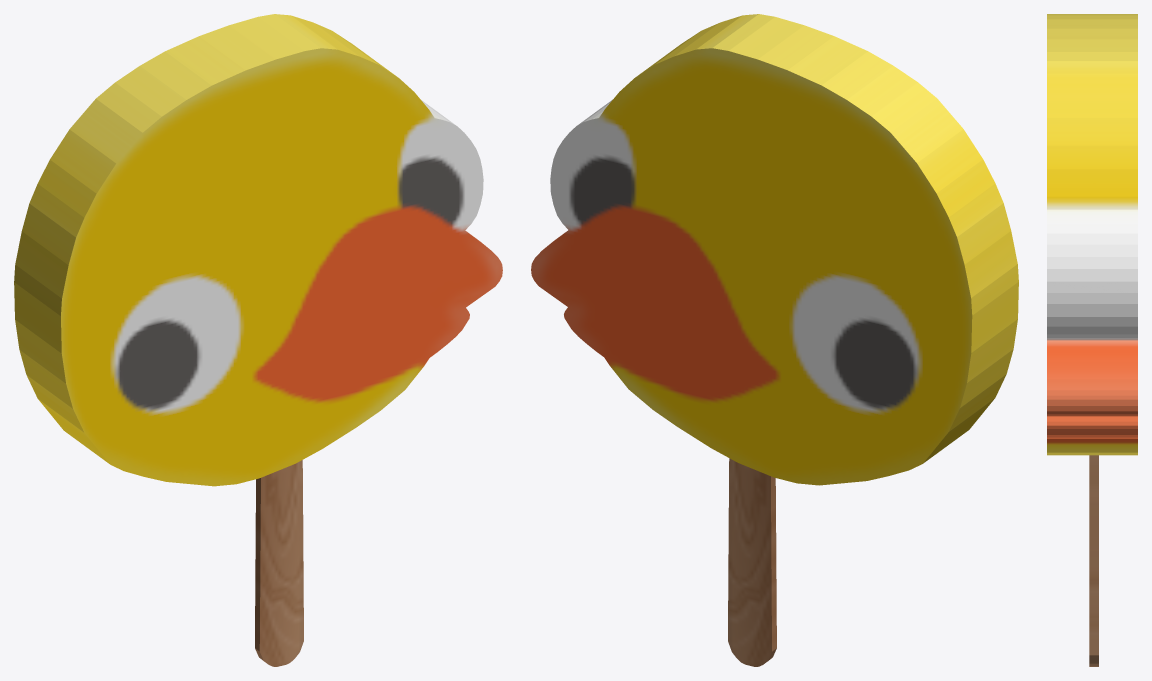
Rendered from cheryl.fbx.
3 renders of one model, left to right at view 1: azimuth 30°, elevation 25°; view 2: azimuth 150°, elevation 25°; view 3: azimuth 270°, elevation 25°, orthographic. The views are drawn at different scales.
Parts seen in each view (by area): view 1: cheryl; view 2: cheryl; view 3: cheryl.
Part boxes in pixels (bbox=[...]): cheryl: bbox=[14, 14, 502, 666]; cheryl: bbox=[531, 14, 1018, 666]; cheryl: bbox=[1047, 14, 1137, 666].
Size of the model in its own units: 136 by 186 by 25.
1 material, 1 textured.
